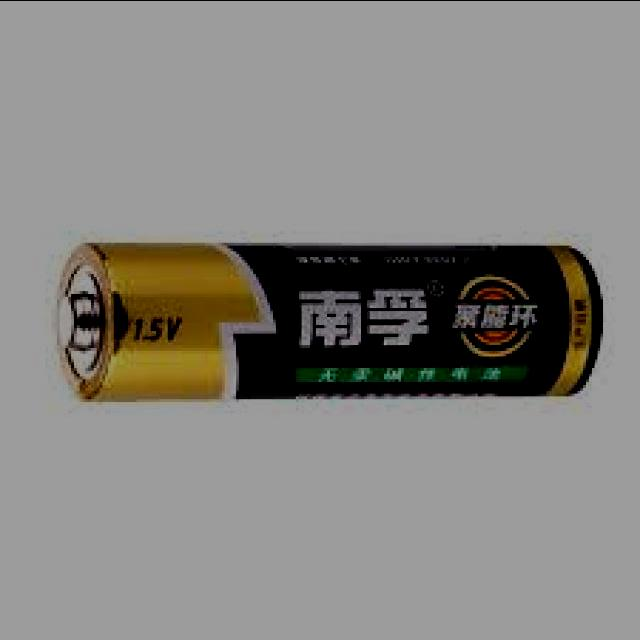AA: (53, 236, 606, 405)
